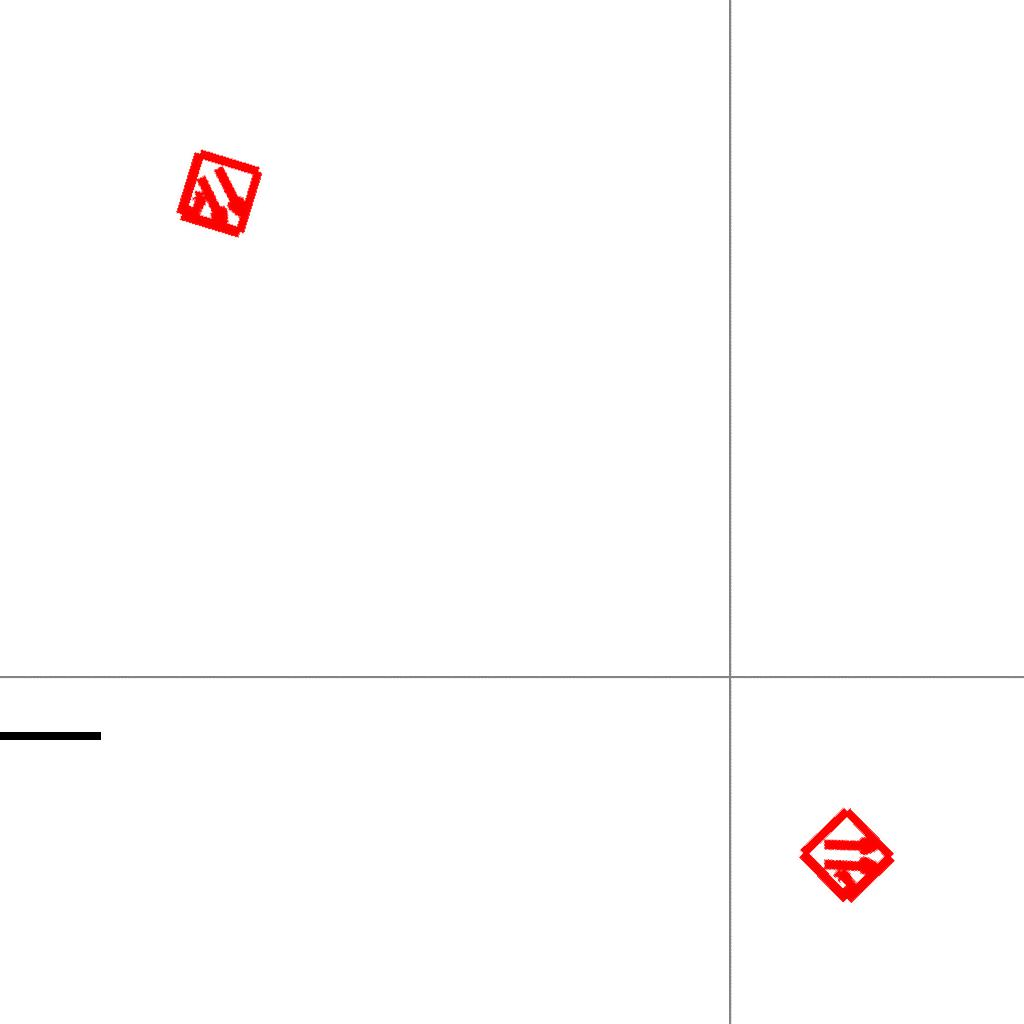OT_Multisensormelder_(Kombination_RMO_WMD): (768, 777, 929, 938), (147, 124, 290, 267)
